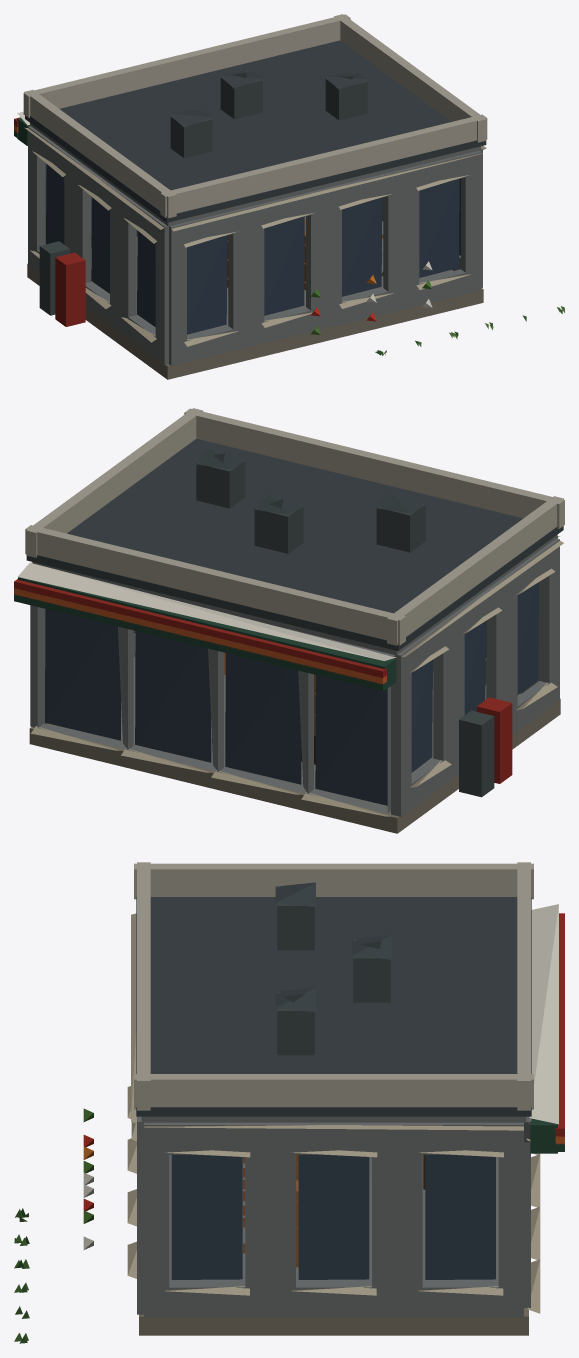
Rendered from shop_grocery.glb.
3 renders of one model, top to bottom at view 1: azimuth 30°, elevation 25°; view 2: azimuth 150°, elevation 25°; view 3: azimuth 270°, elevation 25°, orthographic. The views are drawn at different scales.
Size of the model in its own units: 3.68 by 1.86 by 3.26.
